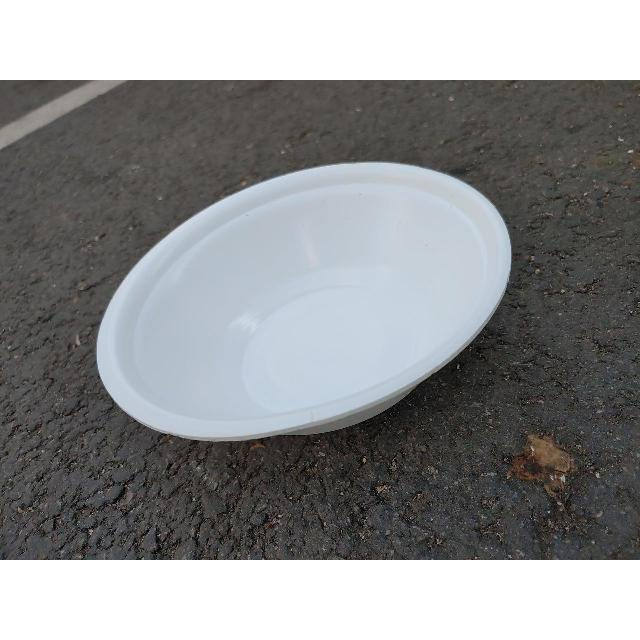Recipiente plastico: (96, 158, 522, 448)
